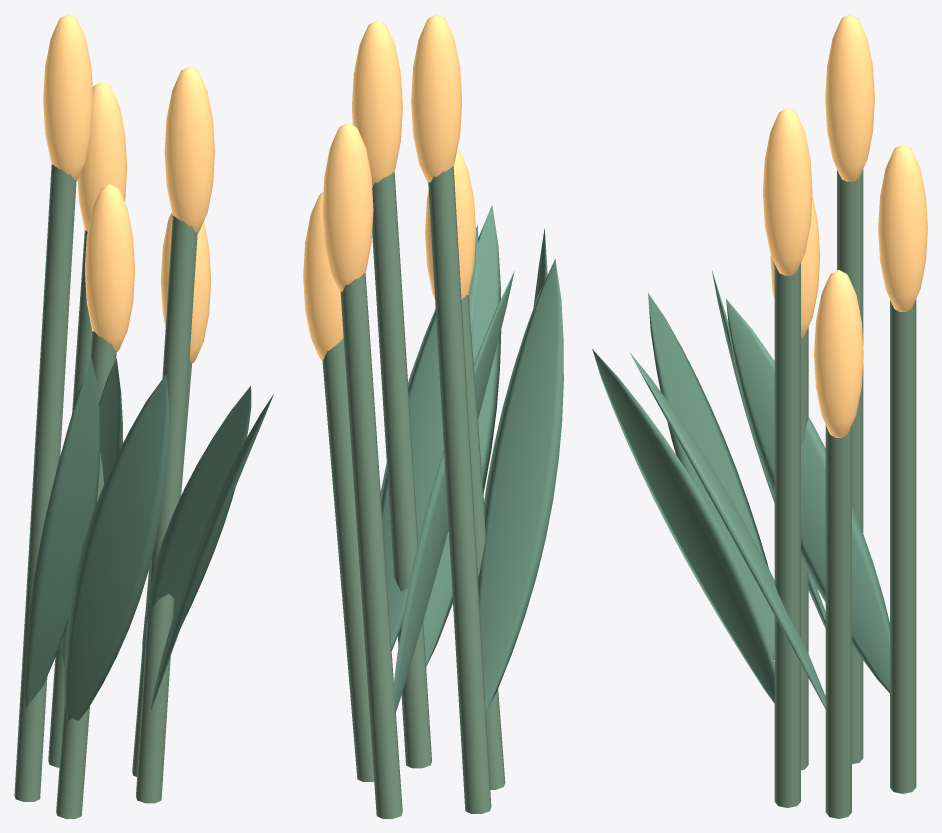
File: reed.glb
3 views of the same model, side by side, from view 1: azimuth 30°, elevation 25°; view 2: azimuth 150°, elevation 25°; view 3: azimuth 270°, elevation 25° (orthographic). The views are drawn at different scales.
Visible parts, largest first — view 1: Vesper / reed; view 2: Vesper / reed; view 3: Vesper / reed.
Part boxes in pixels (bbox=[...]): Vesper / reed: bbox=[14, 14, 273, 818]; Vesper / reed: bbox=[303, 14, 563, 818]; Vesper / reed: bbox=[592, 14, 927, 818].
Size of the model in its own units: 0.8044 by 2.88 by 1.15.
